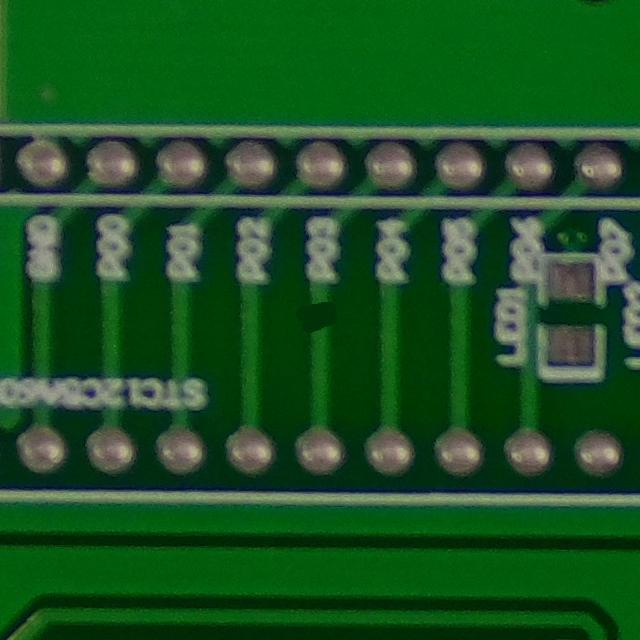open_circuit: (298, 296, 342, 344)
